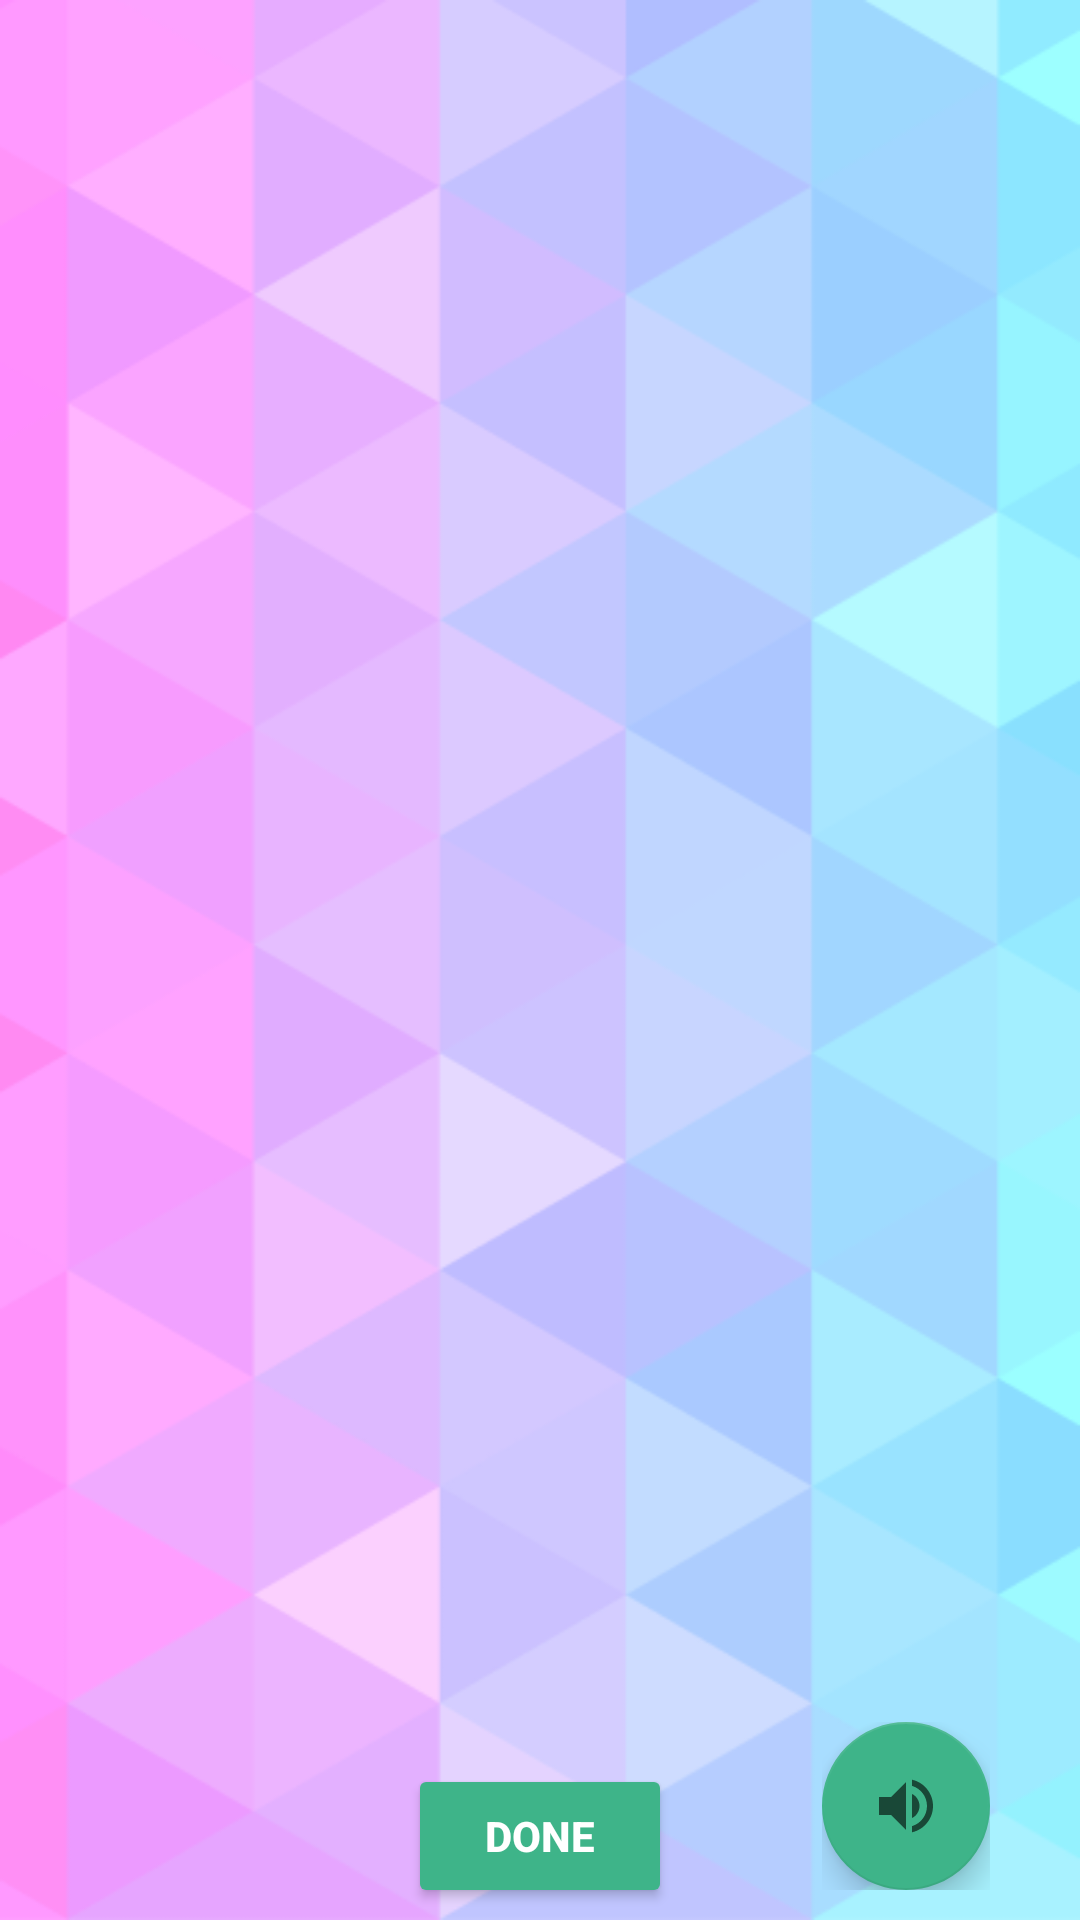

Where to tap for icons on this 1080 × 1920 app screen, as (x,y):
volume: (906,1806)
